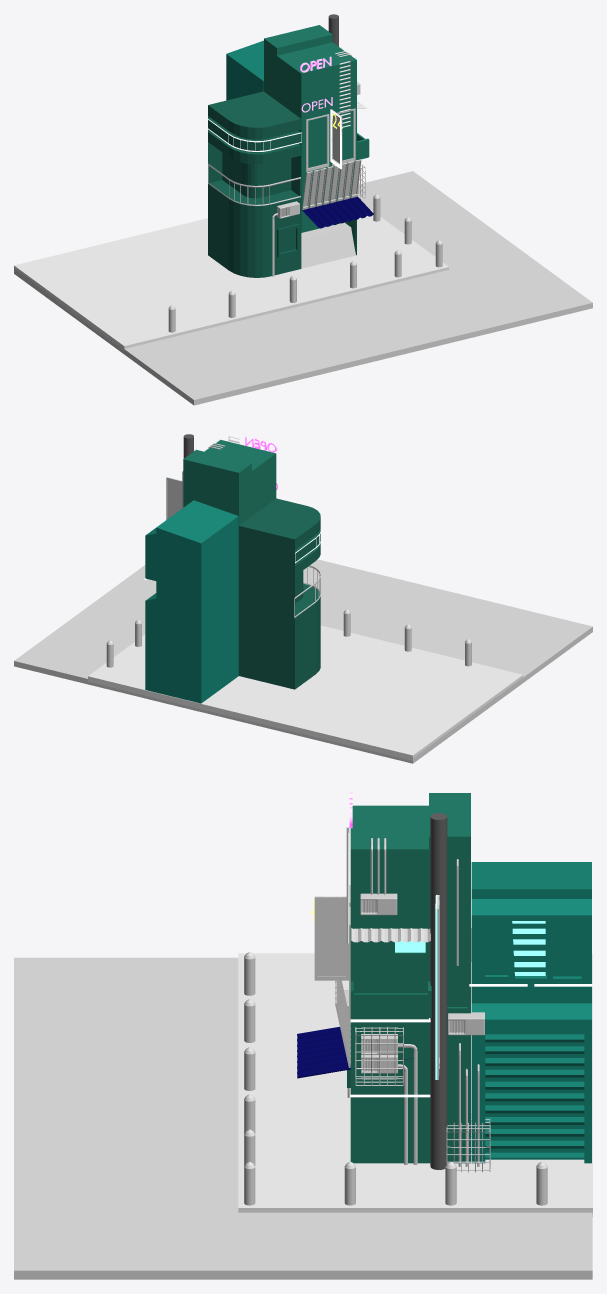
Rendered from CYBER.gltf.
3 views of the same model, one above another, from view 1: azimuth 30°, elevation 25°; view 2: azimuth 150°, elevation 25°; view 3: azimuth 270°, elevation 25° (orthographic). The views are drawn at different scales.
Parts seen in each view (by area): view 1: Cube, Cube.004, Cube.002, Cube.001, Cube.013, Cube.003, Plane, Cube.014; view 2: Cube, Cube.004, Cube.003, Cube.002, Cube.001, Plane.012; view 3: Cube, Cube.003, Cube.004, Cube.001, Cylinder.038, Plane.011, Plane, Cube.011, Plane.013, Cube.010, Cube.015, Cube.012 (+2 smaller).
Part boxes in pixels (x1=…): Cube: x1=14, y1=171, x2=592, y2=405; Cube.004: x1=14, y1=208, x2=448, y2=351; Cube.002: x1=208, y1=91, x2=300, y2=277; Cube.001: x1=264, y1=25, x2=369, y2=268; Cube.013: x1=301, y1=222, x2=355, y2=268; Cube.003: x1=226, y1=40, x2=263, y2=100; Plane: x1=302, y1=196, x2=373, y2=228; Cube.014: x1=208, y1=163, x2=300, y2=206; Cube: x1=14, y1=559, x2=592, y2=763; Cube.004: x1=88, y1=625, x2=523, y2=760; Cube.003: x1=145, y1=500, x2=238, y2=703; Cube.002: x1=239, y1=498, x2=320, y2=689; Cube.001: x1=183, y1=439, x2=276, y2=675; Plane.012: x1=166, y1=477, x2=182, y2=519; Cube: x1=14, y1=957, x2=592, y2=1279; Cube.003: x1=471, y1=862, x2=591, y2=1163; Cube.004: x1=238, y1=953, x2=592, y2=1216; Cube.001: x1=350, y1=793, x2=470, y2=1163; Cylinder.038: x1=430, y1=813, x2=447, y2=1169; Plane.011: x1=314, y1=896, x2=348, y2=980; Plane: x1=297, y1=1026, x2=413, y2=1078; Cube.011: x1=355, y1=1027, x2=403, y2=1085; Plane.013: x1=351, y1=928, x2=430, y2=942; Cube.010: x1=446, y1=1113, x2=490, y2=1172; Cube.015: x1=360, y1=893, x2=397, y2=915; Cube.012: x1=448, y1=1012, x2=484, y2=1035.
Size of the model in its own units: 12.32 by 6.68 by 9.63.
